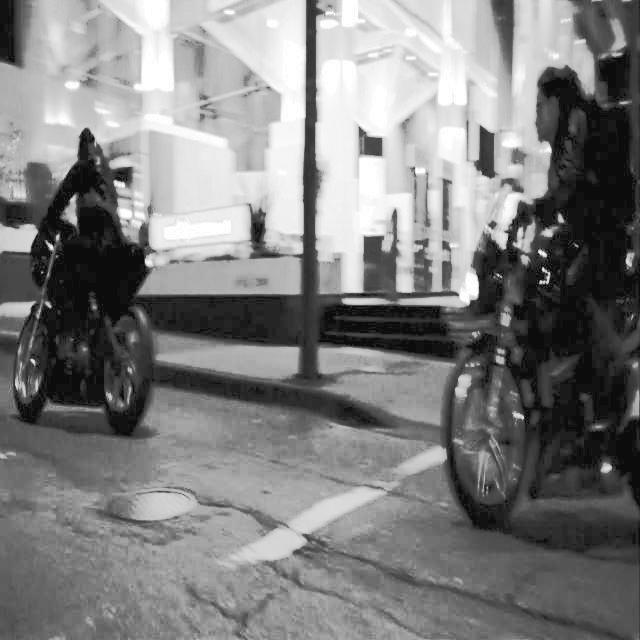Motorcycle: (436, 202, 640, 527), (4, 228, 158, 428)
